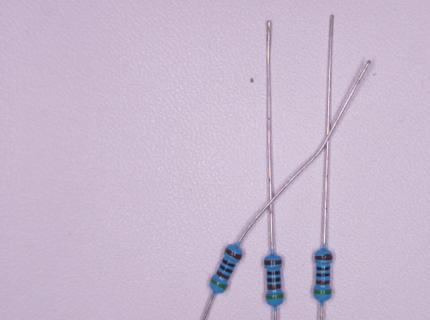Black band: (219, 264, 233, 273), (222, 259, 235, 268), (267, 277, 281, 282), (316, 273, 331, 277), (267, 271, 280, 275), (317, 266, 330, 270)
Brown band: (225, 249, 242, 260), (216, 270, 230, 280), (315, 254, 332, 260), (264, 260, 282, 265), (267, 284, 281, 290), (316, 279, 330, 284)
Green band: (210, 277, 228, 289), (314, 289, 332, 294), (266, 294, 283, 299)
